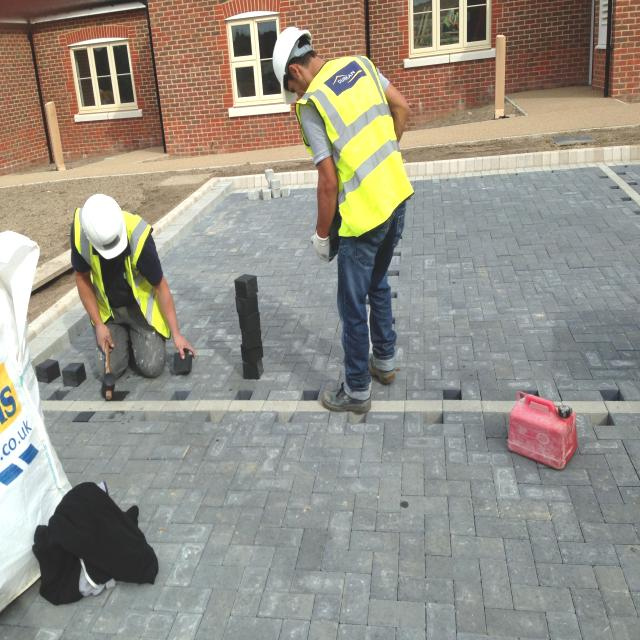hand_glove: (308, 220, 340, 266)
hand_noglove: (89, 313, 122, 353), (169, 325, 197, 367)
head_helmet: (81, 192, 129, 260), (272, 27, 313, 105)
person: (272, 24, 419, 418), (61, 192, 183, 389)
shoes: (315, 384, 377, 416), (363, 348, 401, 391)
vest: (294, 54, 418, 238), (67, 200, 167, 338)
